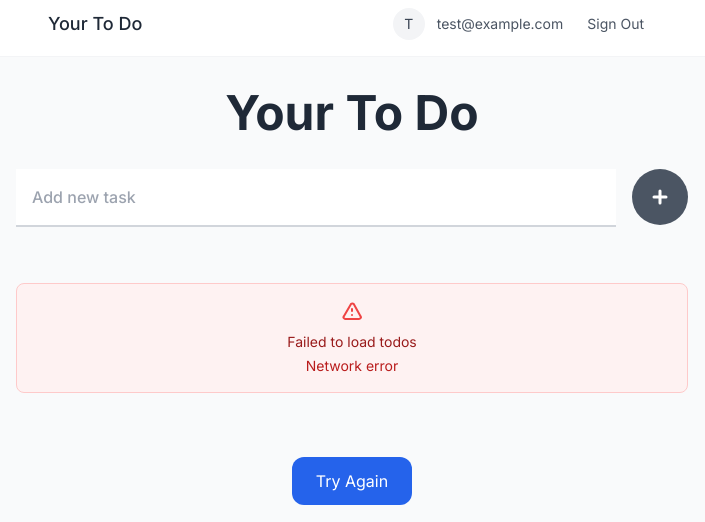
Test: Todo Integration Tests › retries loading on error
Note: Click retry
Click the button "Try Again" at (352, 481), box 292,457 -> 412,505
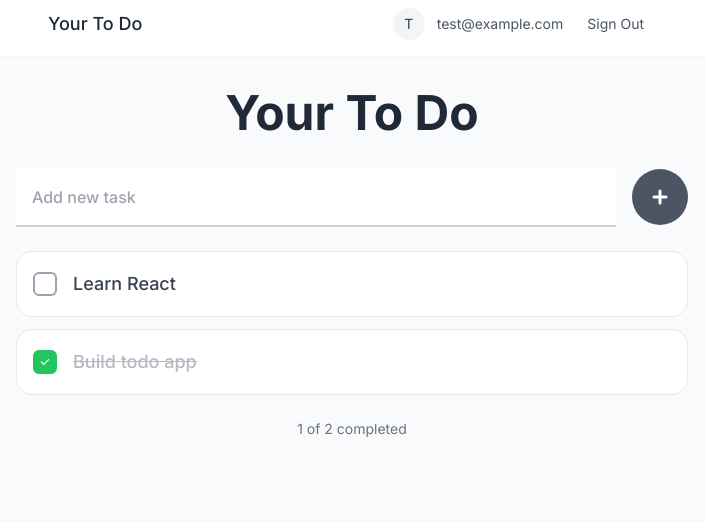
Result: the text "Learn React" is shown at 73,273 -> 176,294
